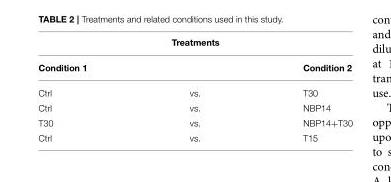table: (37, 37, 351, 142)
table column: (137, 37, 250, 142), (250, 37, 351, 142), (37, 37, 137, 142)
table column header: (37, 37, 351, 80)
table row: (37, 54, 351, 80), (37, 80, 351, 100), (37, 37, 351, 54), (37, 100, 351, 115), (37, 115, 351, 130), (37, 130, 351, 142)
table spanning cell: (37, 37, 351, 54)
